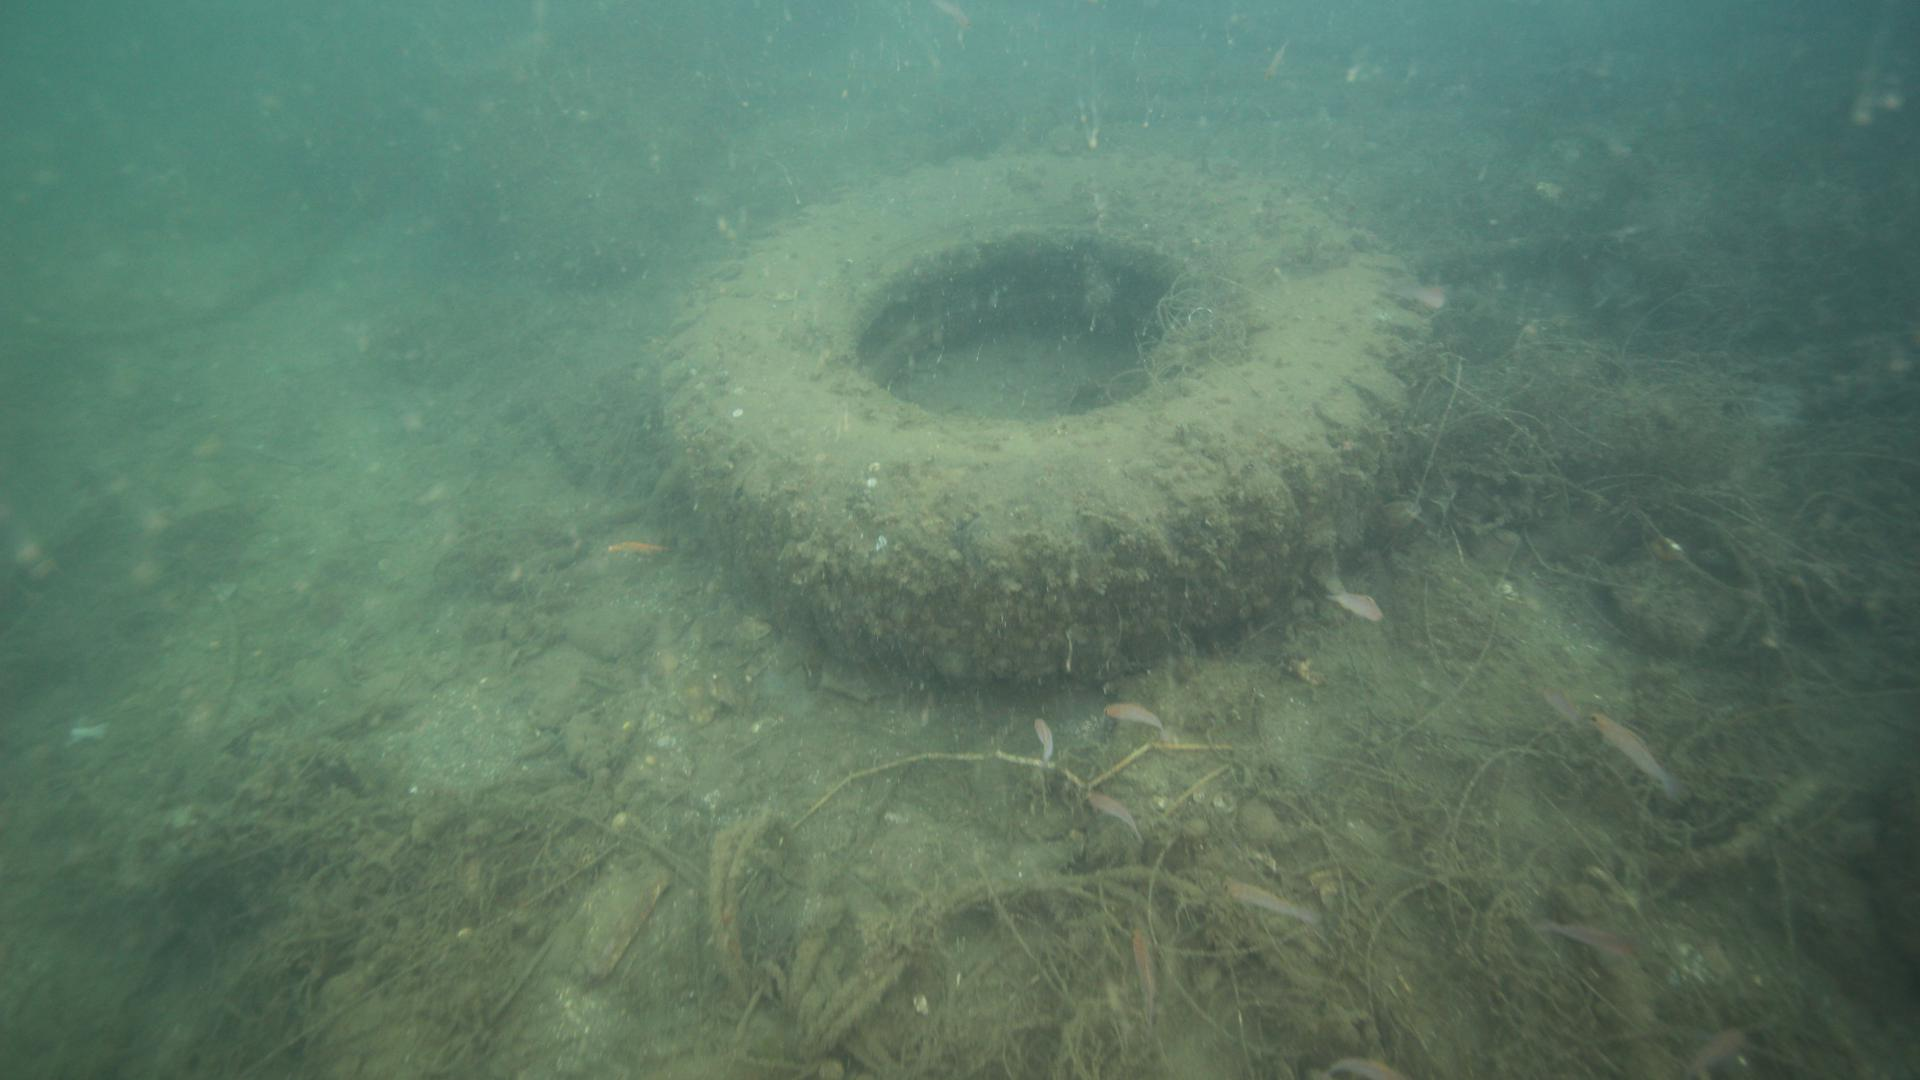tire: (641, 142, 1441, 680)
